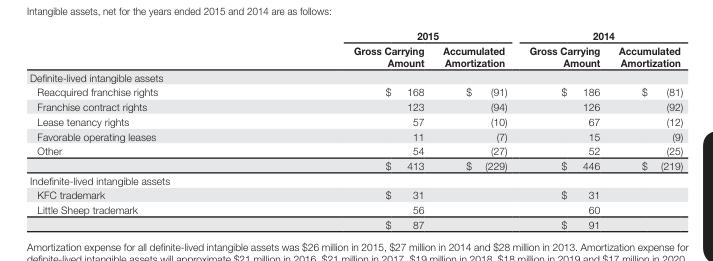table: (29, 28, 682, 229)
table column: (29, 28, 255, 229), (255, 28, 432, 229), (517, 28, 608, 229), (432, 28, 517, 229), (608, 28, 682, 229)
table column header: (29, 28, 682, 69)
table projected row header: (29, 69, 682, 84), (29, 172, 682, 187)
table row: (29, 42, 682, 69), (29, 69, 682, 84), (29, 98, 682, 113), (29, 113, 682, 128), (29, 142, 682, 157), (29, 157, 682, 172), (29, 172, 682, 187), (29, 201, 682, 216), (29, 28, 682, 42), (29, 84, 682, 98), (29, 128, 682, 142), (29, 187, 682, 201), (29, 216, 682, 229)
table spanning cell: (255, 28, 517, 42), (517, 28, 682, 42)
